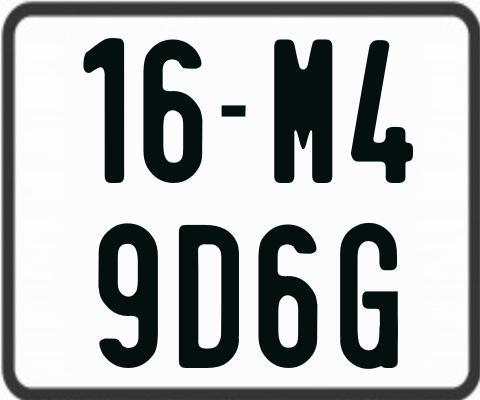1: (82, 36, 123, 181)
4: (350, 39, 414, 182)
6: (143, 37, 207, 185), (256, 222, 316, 369)
9: (97, 220, 162, 368)
D: (178, 222, 242, 370)
G: (340, 223, 400, 371)
M: (274, 39, 337, 186)
